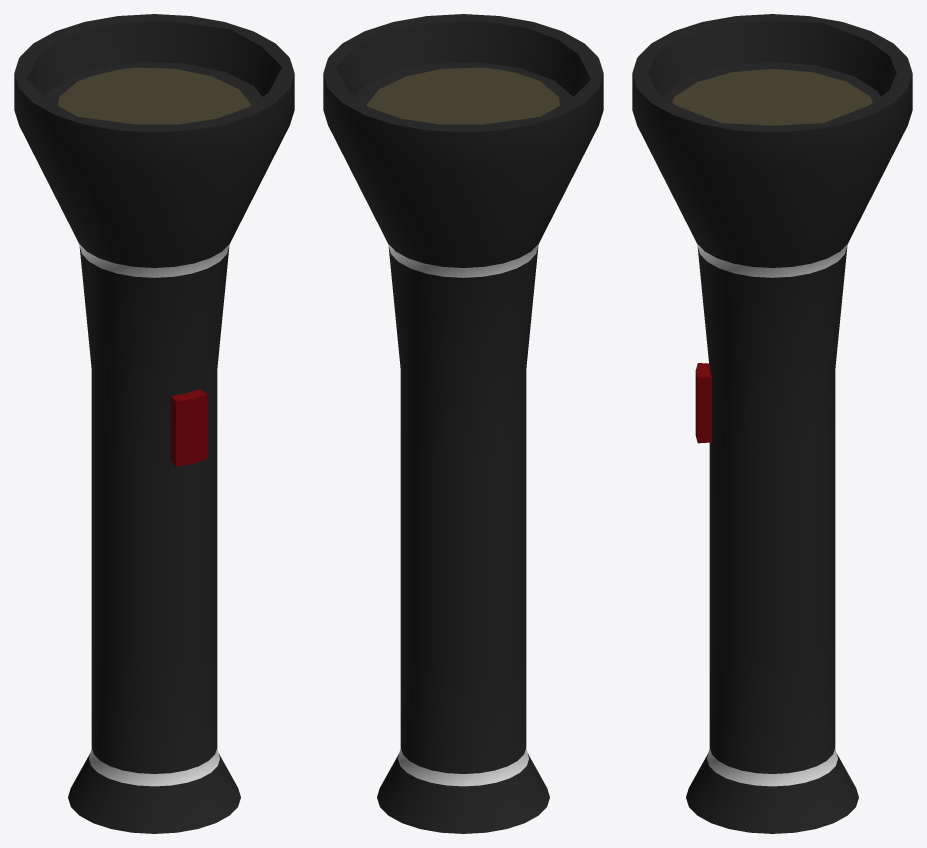
The model's file is Torch.fbx.
3 views of the same model, side by side, from view 1: azimuth 30°, elevation 25°; view 2: azimuth 150°, elevation 25°; view 3: azimuth 270°, elevation 25° (orthographic).
Visible parts, largest first — view 1: Torch; view 2: Torch; view 3: Torch.
Boxes of the visible parts, <box> form: Torch: <box>14,14,294,833</box>; Torch: <box>323,14,603,833</box>; Torch: <box>632,14,912,833</box>.
Bounding box in the file's own units: 10.71 × 30.54 × 10.71.
